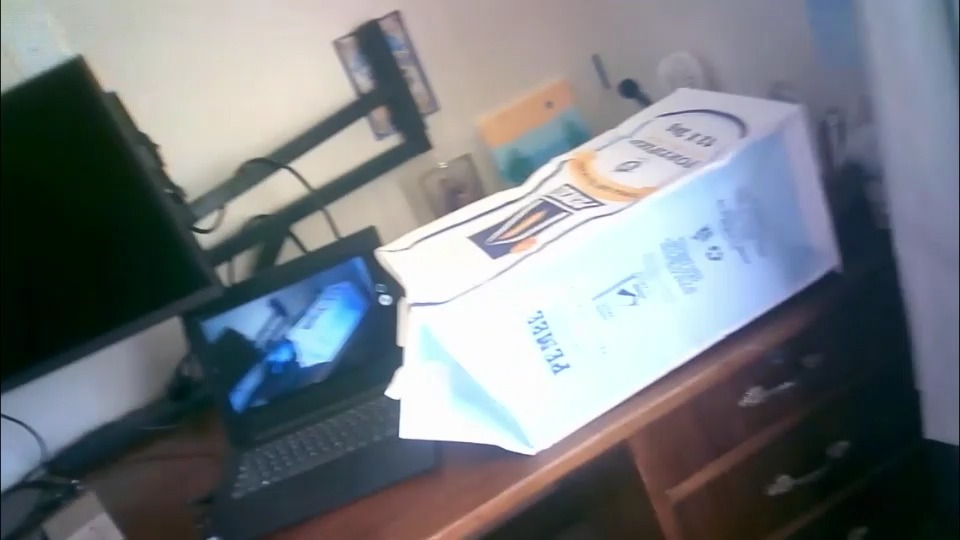wheat_flour_blue_label: (385, 90, 842, 447)
